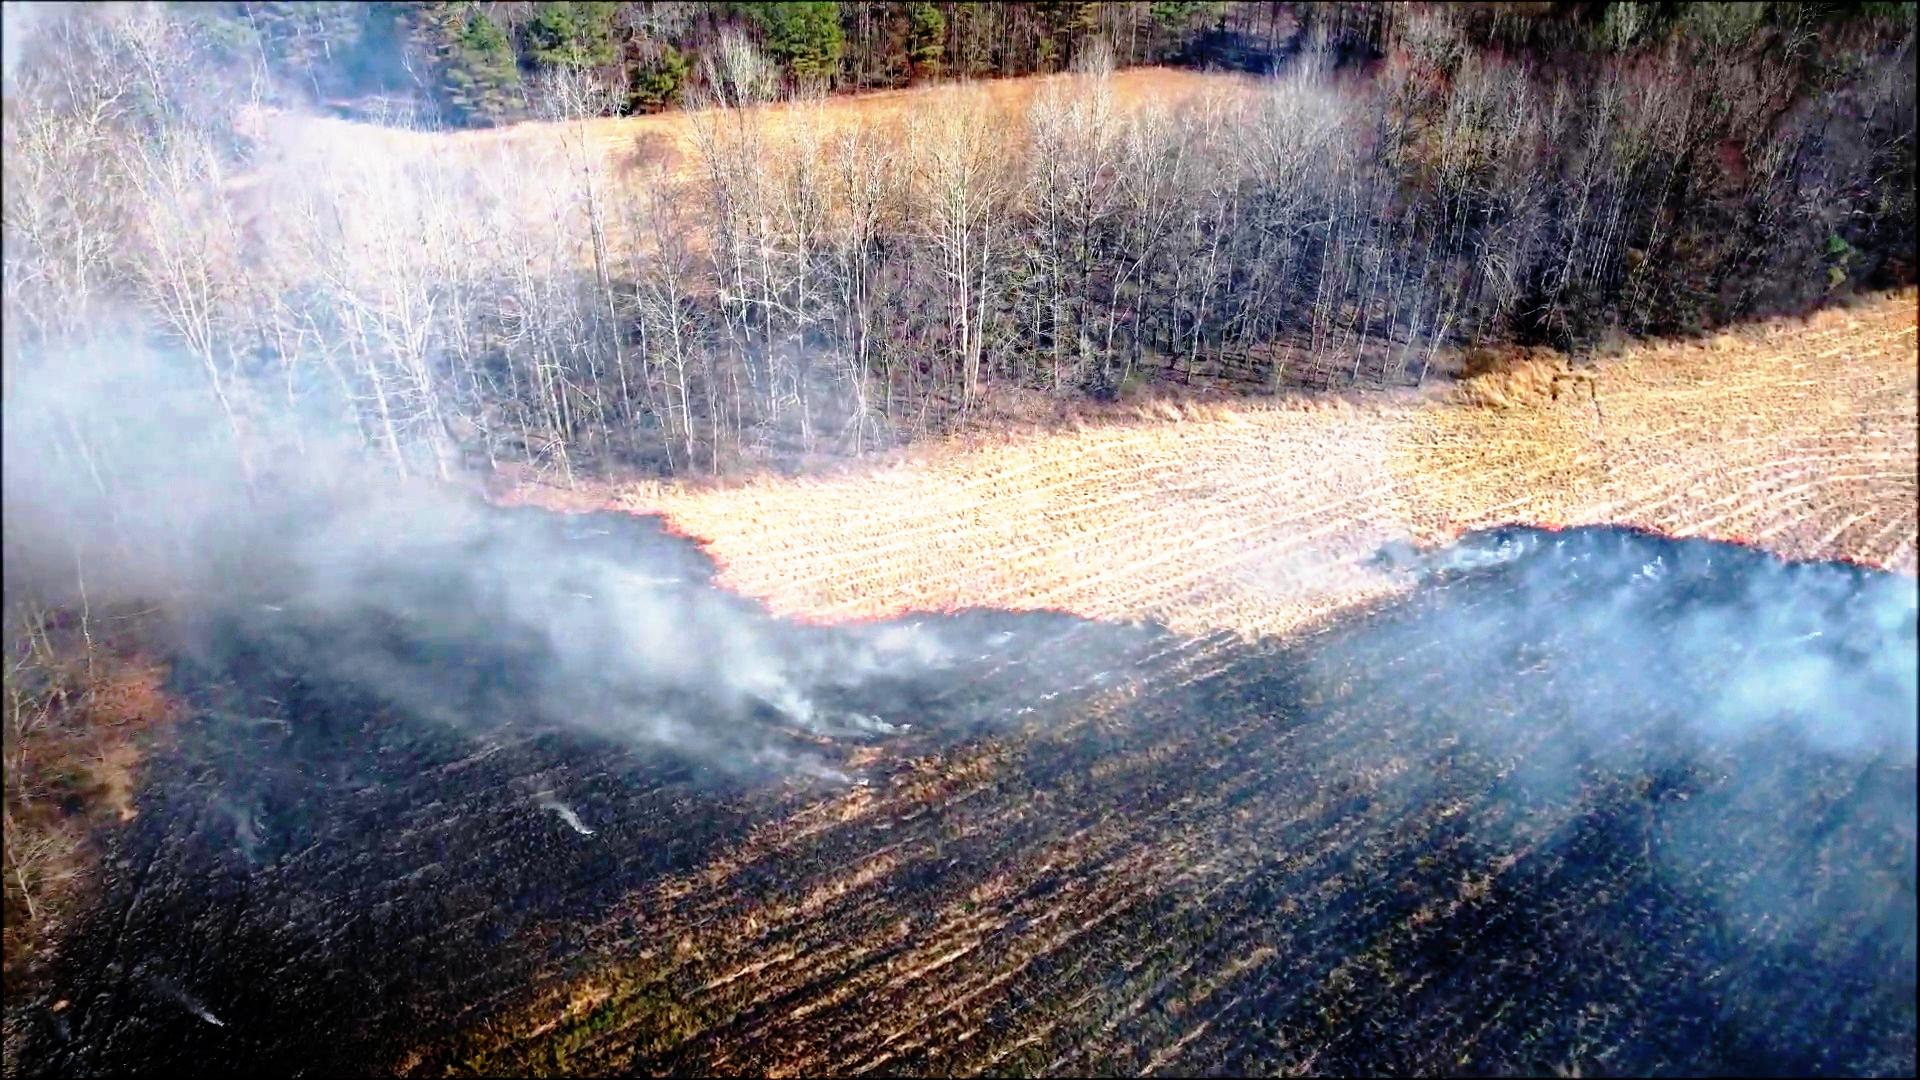smoke: (4, 335, 878, 836), (1345, 512, 1920, 832)
